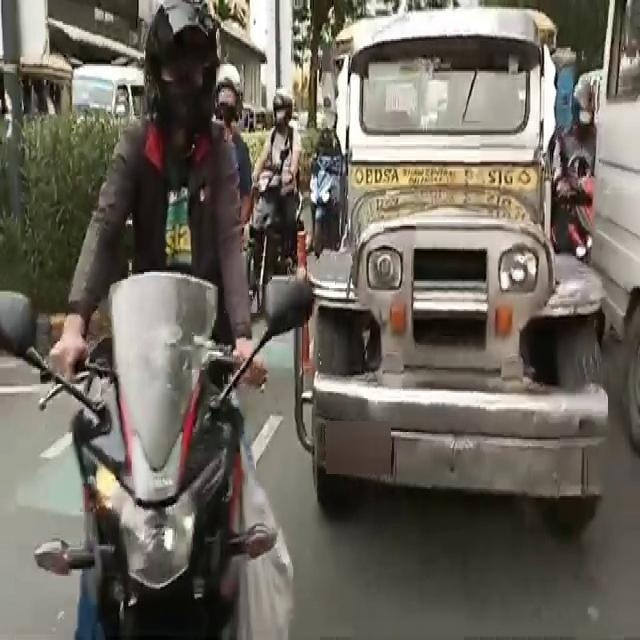jeepney: (319, 17, 574, 535)
motorcycle: (93, 49, 245, 640), (252, 91, 302, 332)
